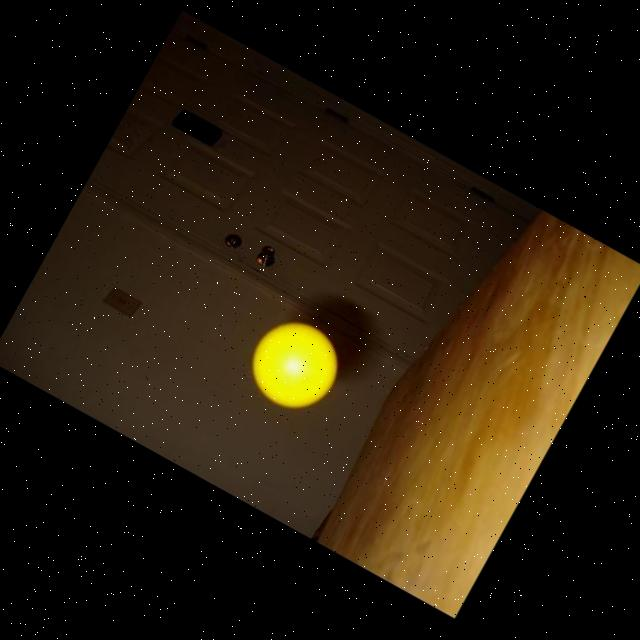ping-pong-ball: (235, 305, 354, 423)
